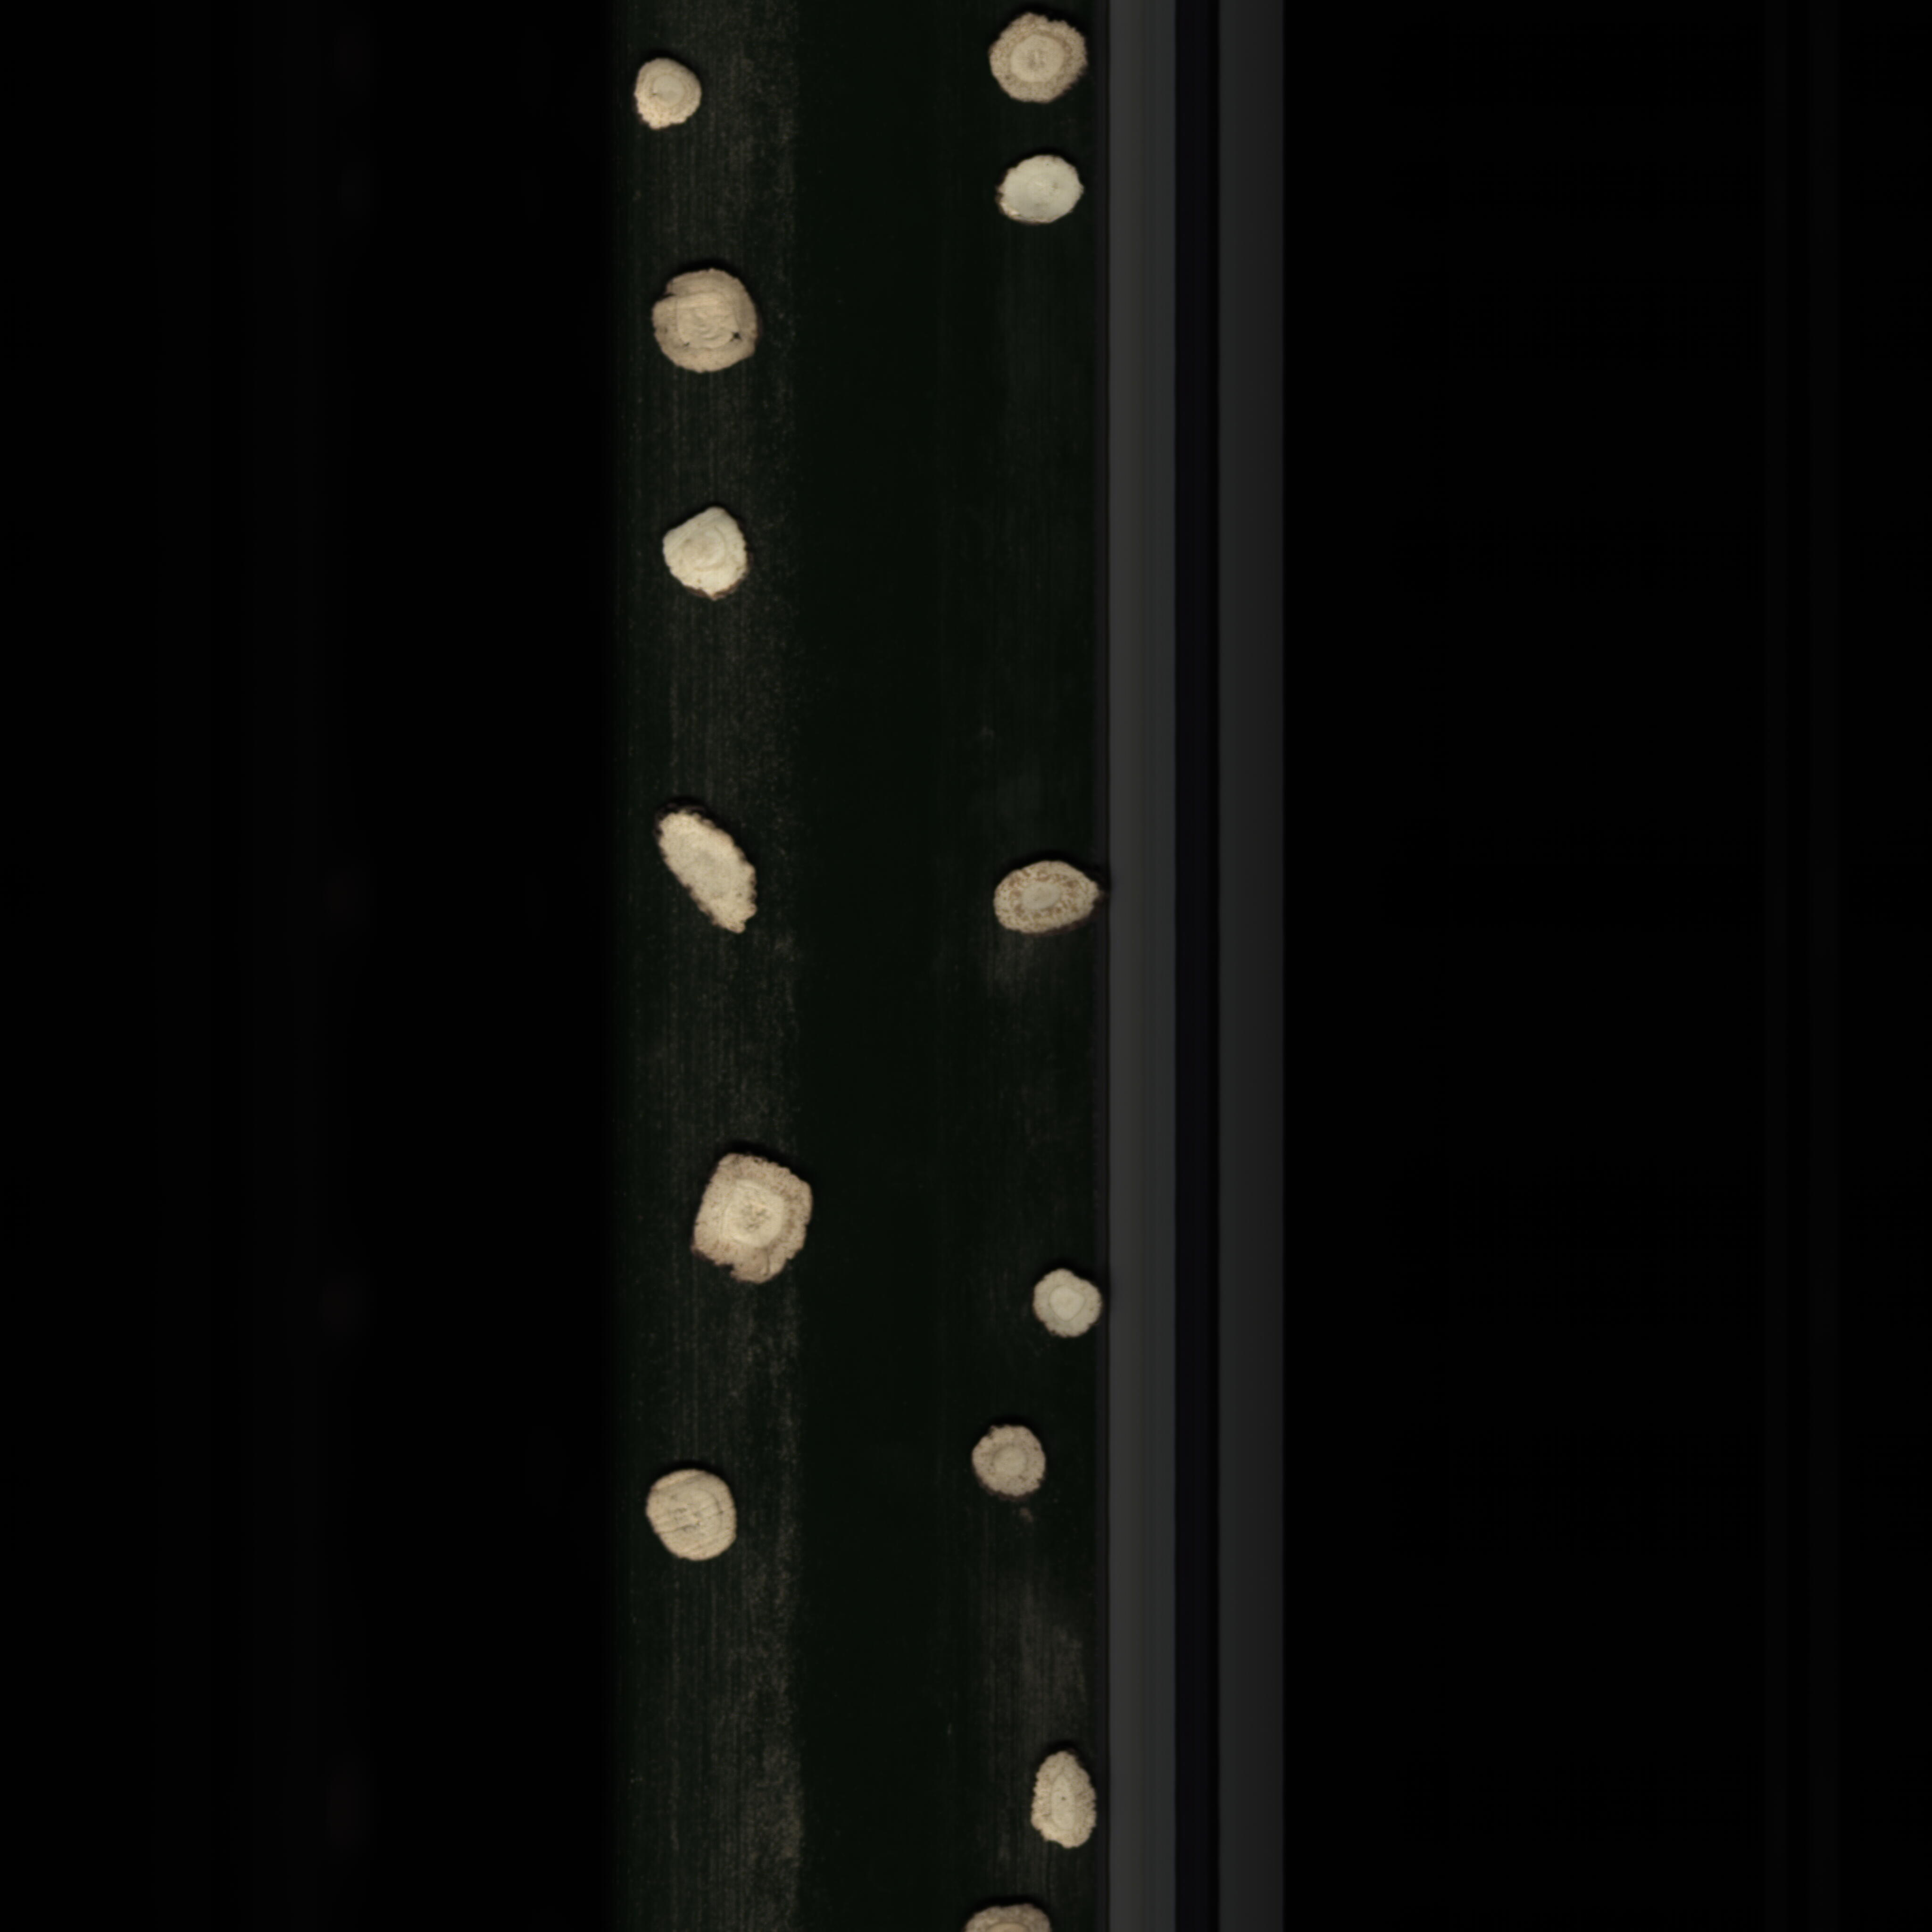distortion: (639, 794, 770, 957)
hole: (644, 262, 786, 377)
